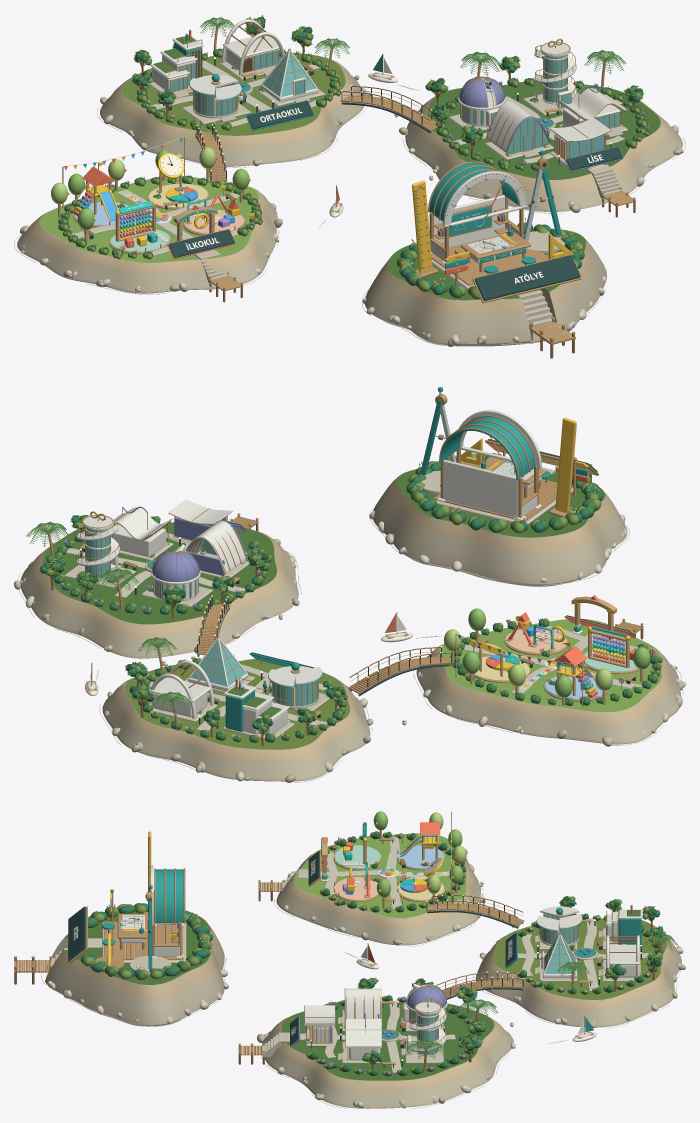
File: ana-sayfa.glb
3 renders of one model, top to bottom at view 1: azimuth 30°, elevation 25°; view 2: azimuth 150°, elevation 25°; view 3: azimuth 270°, elevation 25°, orthographic. The views are drawn at different scales.
Parts seen in each view (by area): view 1: landmark|atolye, stage|lise, stage|ilkokul, stage|ortaokul, static, arac|pergel, arac|piramit, arac|kubbe; view 2: stage|lise, landmark|atolye, stage|ilkokul, stage|ortaokul, static, arac|piramit, arac|pergel, arac|kubbe; view 3: stage|lise, landmark|atolye, stage|ilkokul, stage|ortaokul, static, arac|piramit, arac|pergel, arac|kubbe.
Part boxes in pixels (x1=…): landmark|atolye: x1=362, y1=161, x2=606, y2=358; stage|lise: x1=399, y1=38, x2=685, y2=217; stage|ilkokul: x1=14, y1=136, x2=282, y2=302; stage|ortaokul: x1=97, y1=15, x2=370, y2=167; static: x1=194, y1=85, x2=437, y2=182; arac|pergel: x1=523, y1=150, x2=565, y2=253; arac|piramit: x1=262, y1=48, x2=317, y2=97; arac|kubbe: x1=459, y1=76, x2=504, y2=107; stage|lise: x1=14, y1=499, x2=301, y2=658; landmark|atolye: x1=369, y1=410, x2=629, y2=586; stage|ilkokul: x1=413, y1=595, x2=685, y2=746; stage|ortaokul: x1=99, y1=637, x2=373, y2=782; static: x1=196, y1=594, x2=451, y2=696; arac|piramit: x1=189, y1=636, x2=246, y2=687; arac|pergel: x1=420, y1=387, x2=456, y2=494; arac|kubbe: x1=152, y1=543, x2=199, y2=582; stage|lise: x1=238, y1=977, x2=515, y2=1108; landmark|atolye: x1=14, y1=831, x2=228, y2=1026; stage|ilkokul: x1=258, y1=811, x2=485, y2=946; stage|ortaokul: x1=473, y1=896, x2=685, y2=1028; static: x1=426, y1=894, x2=524, y2=999; arac|piramit: x1=543, y1=933, x2=576, y2=974; arac|pergel: x1=130, y1=885, x2=171, y2=975; arac|kubbe: x1=407, y1=983, x2=446, y2=1009.
Size of the model in its own units: 50.96 by 10.71 by 54.57.
